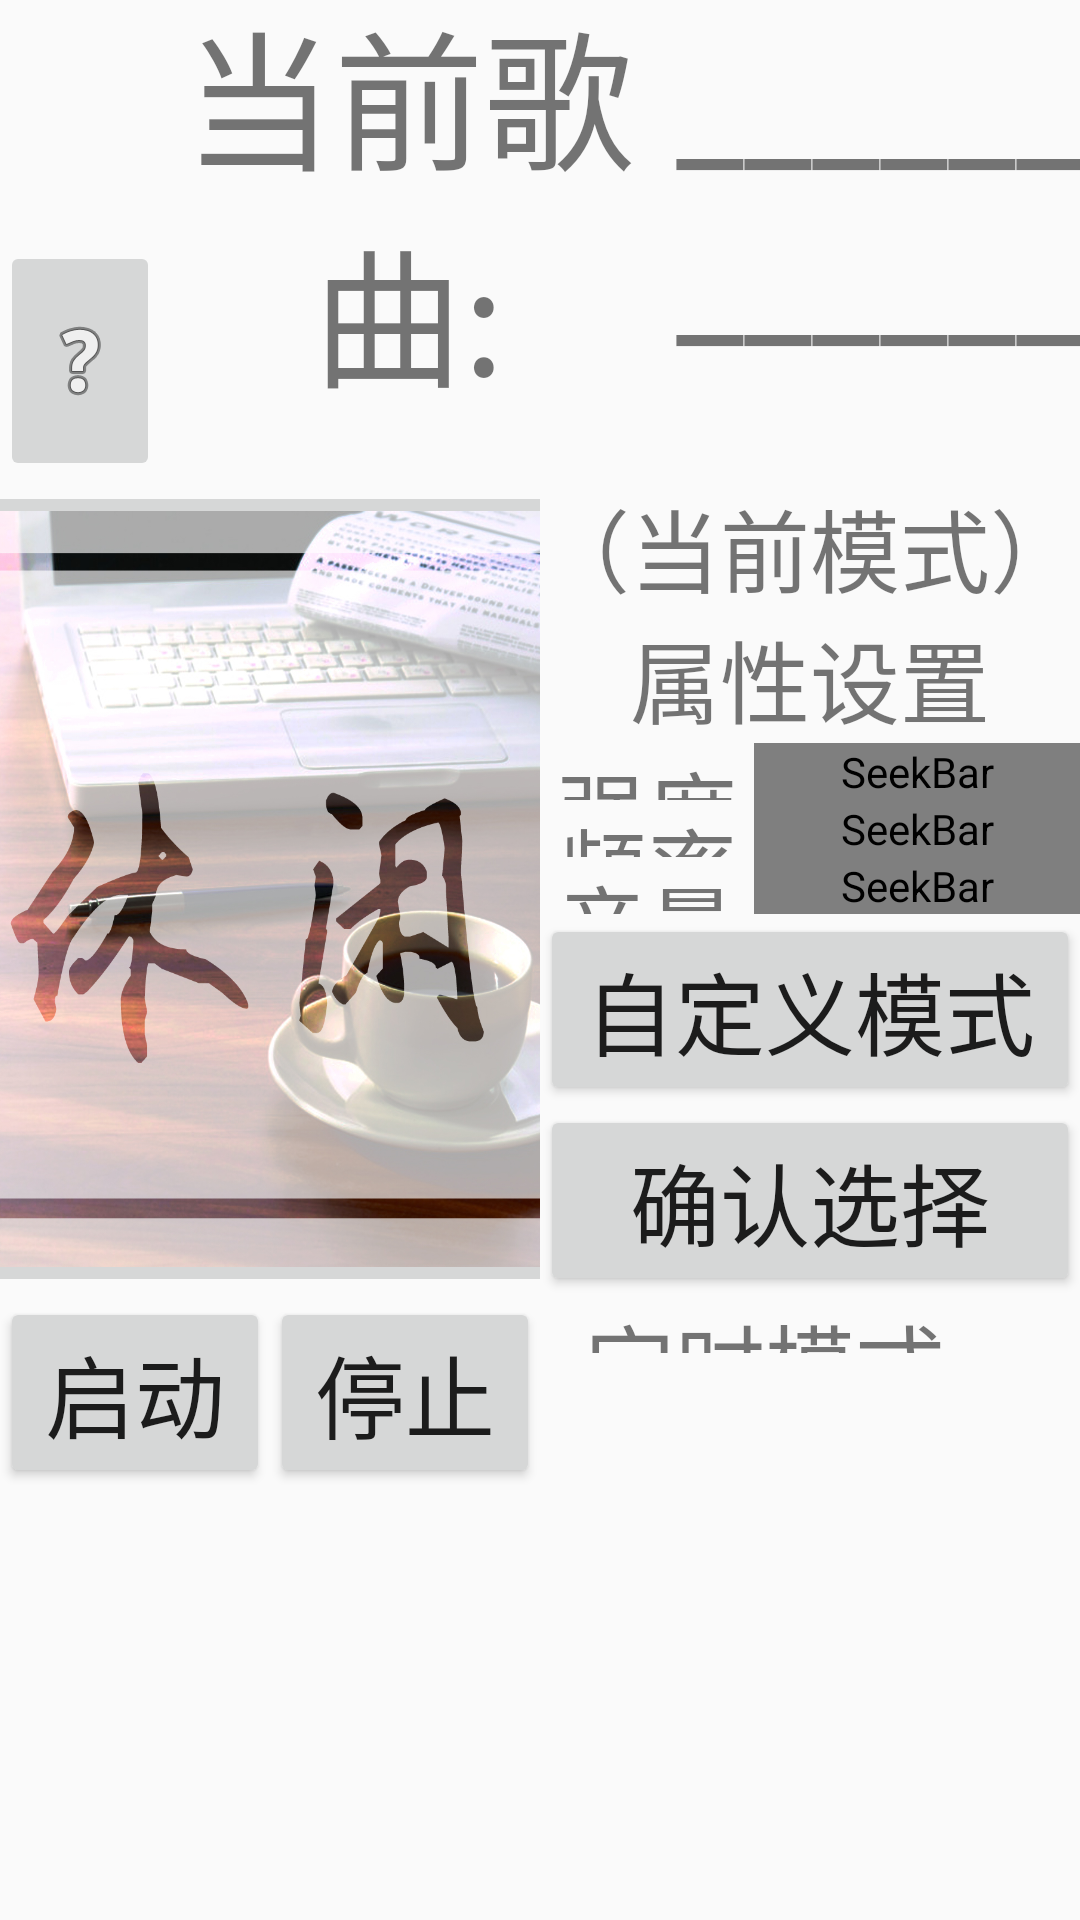

Locate icon controls on the screen. Image size 1080px×1920px, boxes as (x1, y1, x2, y2).
help: (12, 259, 148, 463)
